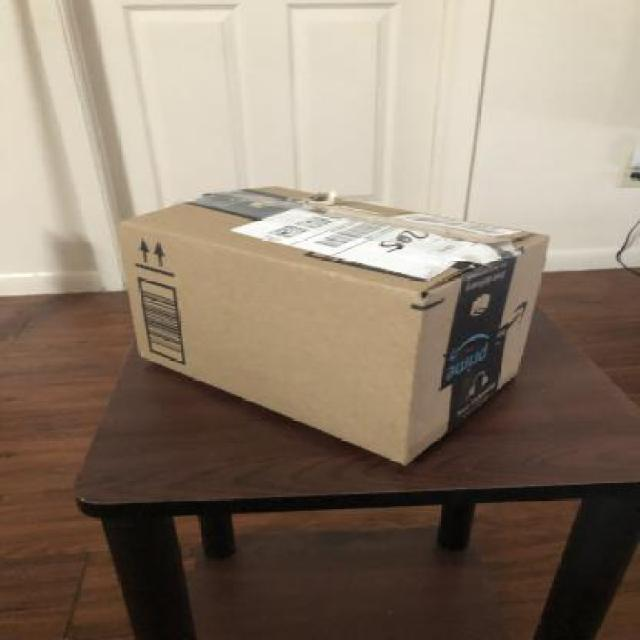cardboxes: (112, 180, 553, 474)
